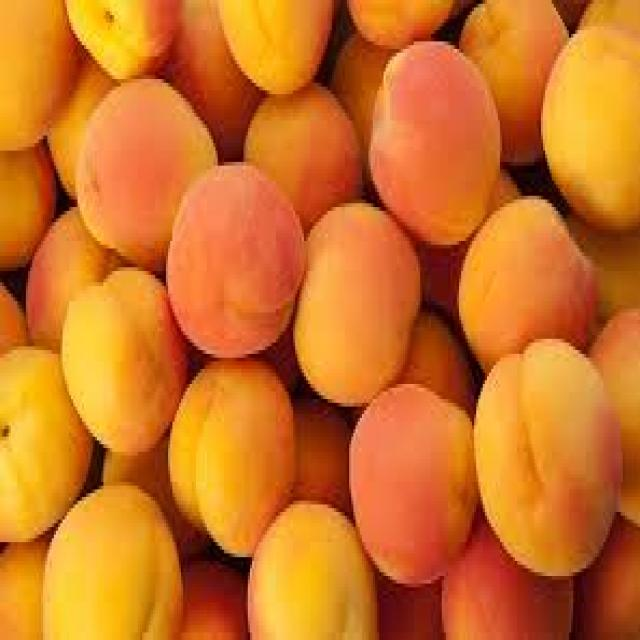kayisi: (476, 347, 621, 582), (373, 45, 502, 239), (169, 167, 302, 352)
